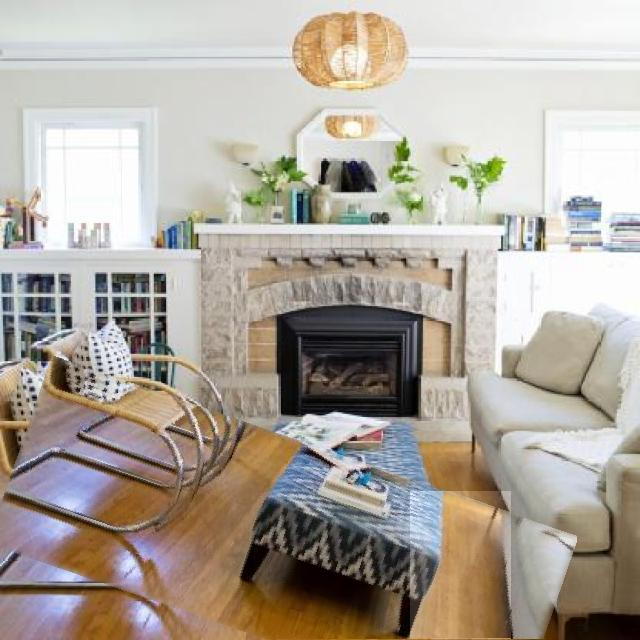floor: (0, 428, 400, 640), (410, 492, 511, 639)
